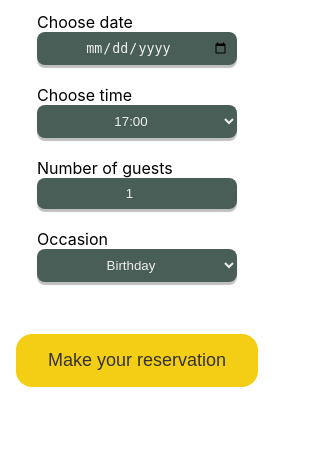
Time input › Shows validation error when time is not selected
Select "" in the dropdown labelled "Choose time": {"x": 137, "y": 122} left=37, top=105, right=237, bottom=138
Click the button with aria-label "submit reservation": {"x": 137, "y": 361} left=16, top=334, right=258, bottom=387
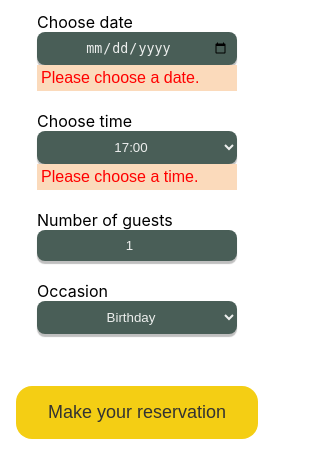
Check: the text "Please choose a time." is shown, box left=37, top=164, right=237, bottom=190
